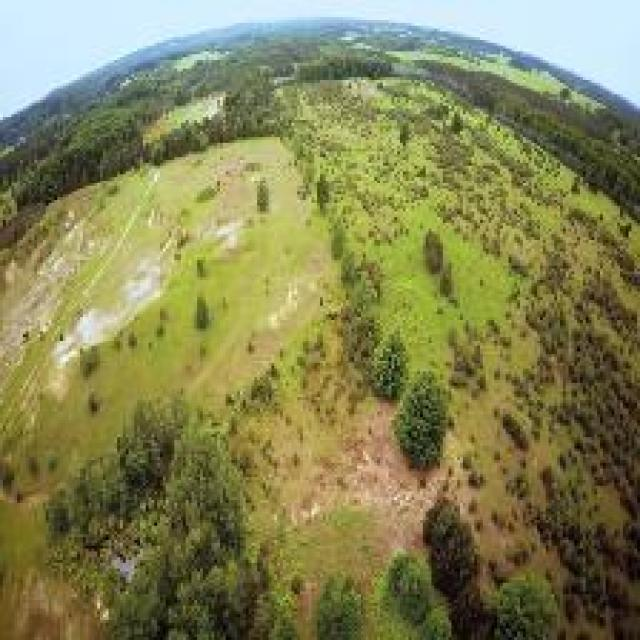other: (306, 418, 514, 543), (45, 239, 174, 340)
